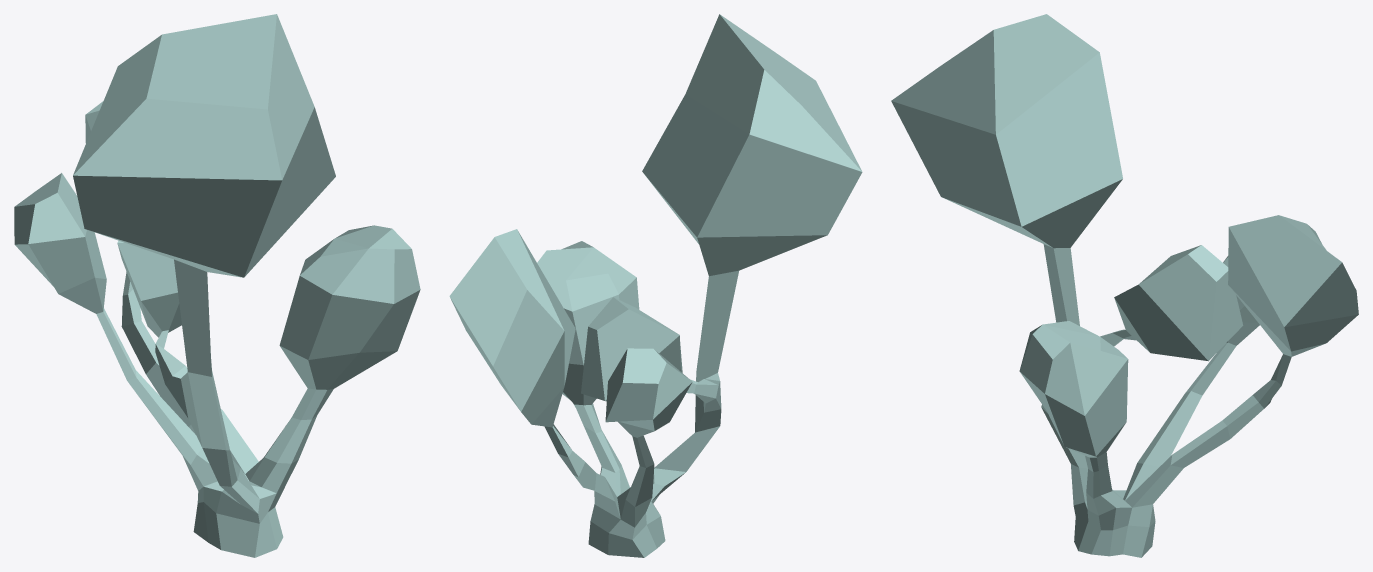
File: tree2.fbx
3 renders of one model, left to right at view 1: azimuth 30°, elevation 25°; view 2: azimuth 150°, elevation 25°; view 3: azimuth 270°, elevation 25°, orthographic. The views are drawn at different scales.
Parts seen in each view (by area): view 1: tree2:Mesh; view 2: tree2:Mesh; view 3: tree2:Mesh.
Boxes of the visible parts, x1,y1,x2,y2 form: tree2:Mesh: [14, 14, 420, 557]; tree2:Mesh: [449, 14, 862, 557]; tree2:Mesh: [891, 14, 1358, 557].
Size of the model in its own units: 2.95 by 4.34 by 3.67.
